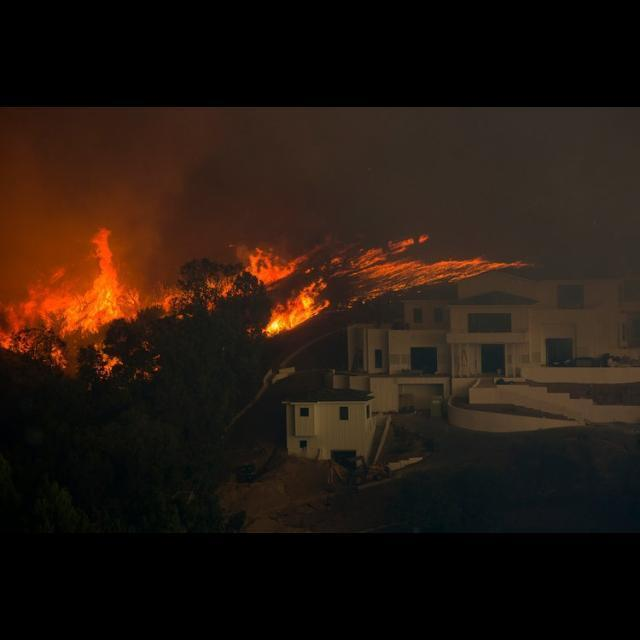Fire: (1, 228, 537, 382)
Smoke: (1, 163, 195, 307)
